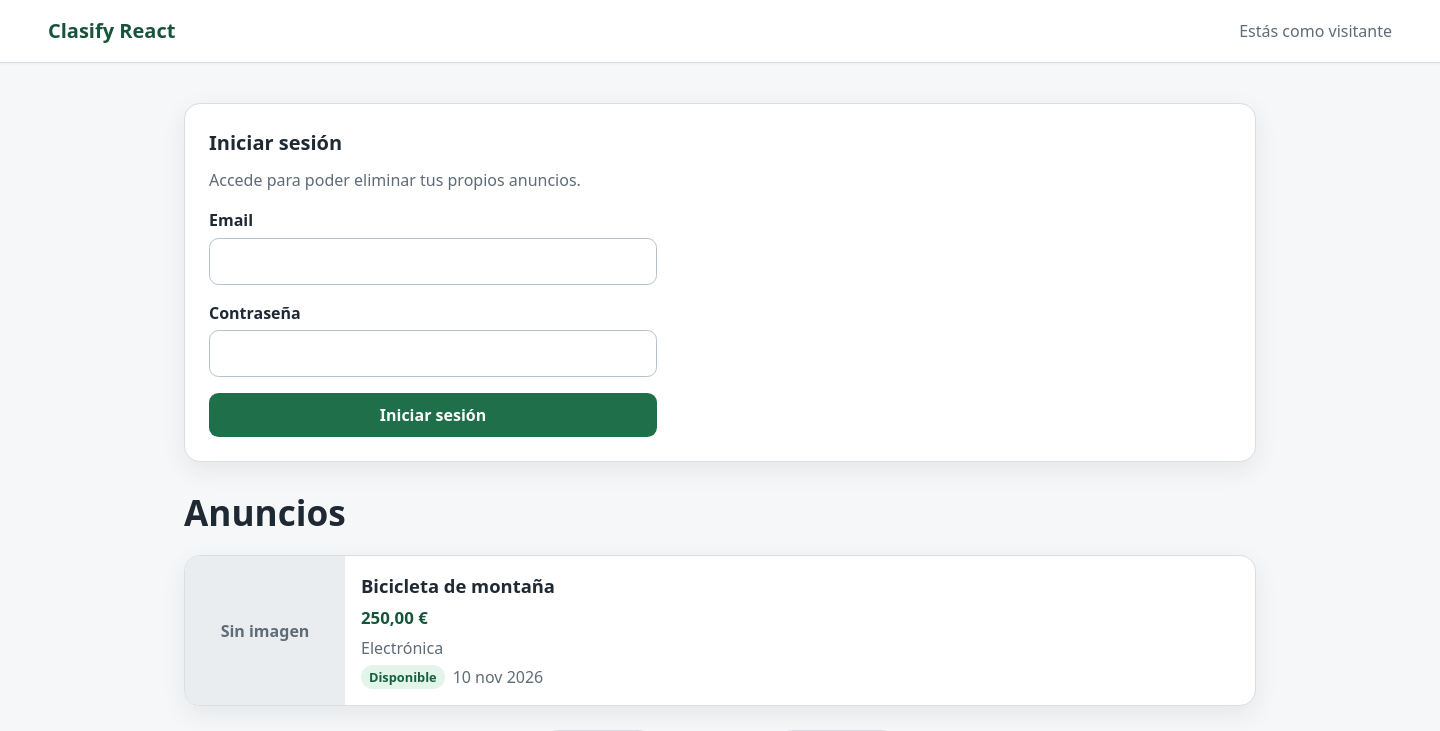
Scenario: sesión del frontend React › muestra un error comprensible con credenciales incorrectas
Expected: the heading "Bicicleta de montaña" is shown, [361,573,555,598]
Type "ana@example.com" into the field labelled "Email" at (433, 261), box [209,238,657,285]
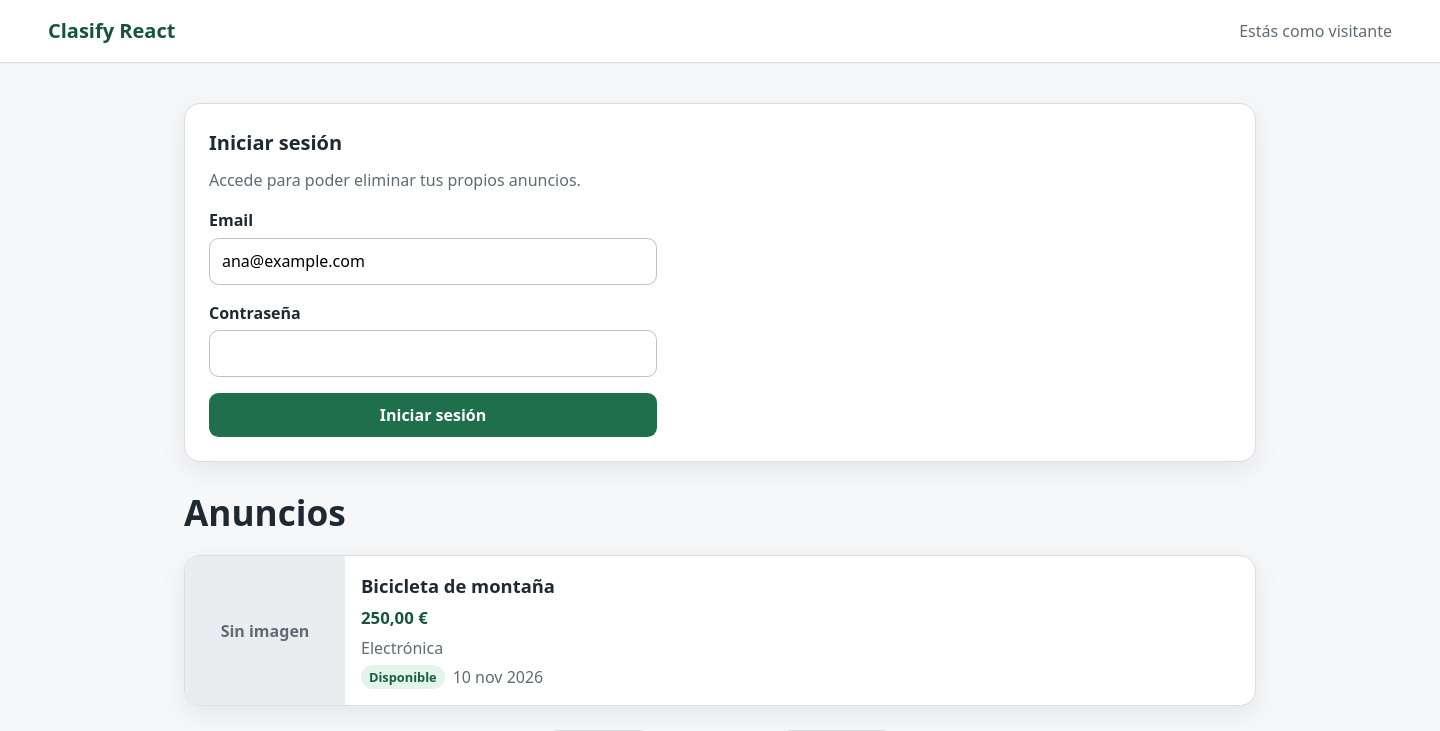
Type "Clasify123!" into the password field labelled "Contraseña" at (433, 354), box [209,330,657,377]
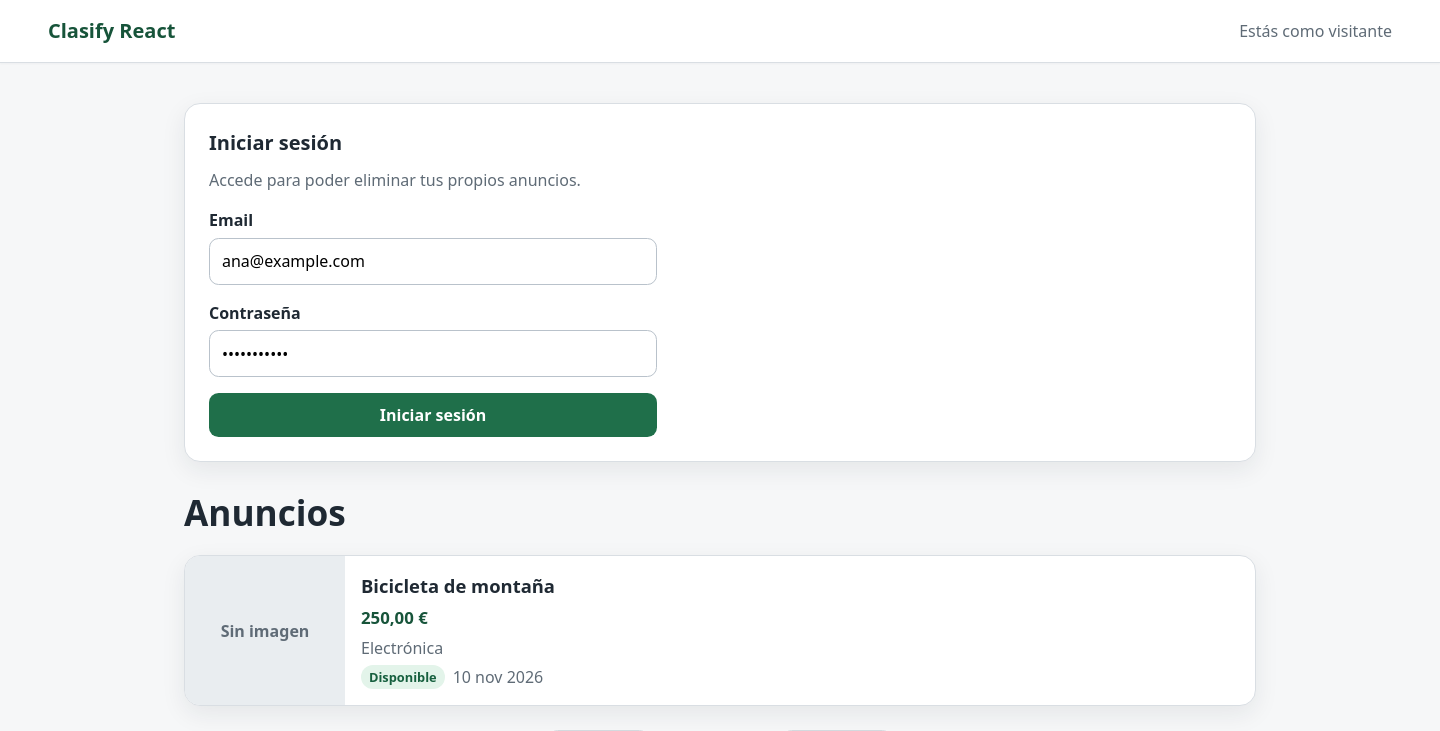
Click the button "Iniciar sesión" at (433, 415), box [209,393,657,437]
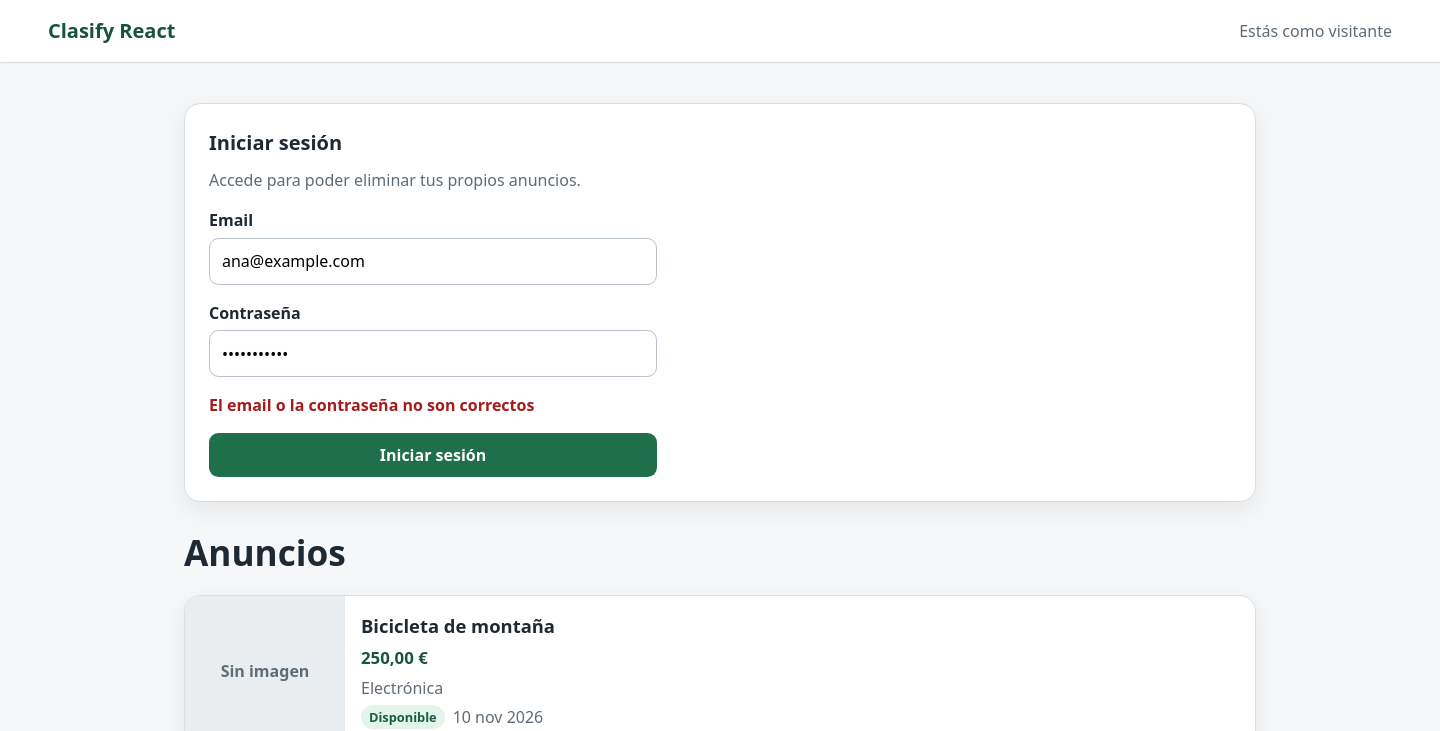
Result: the text "El email o la contraseña no son correctos" is shown at [209,394,534,416]
